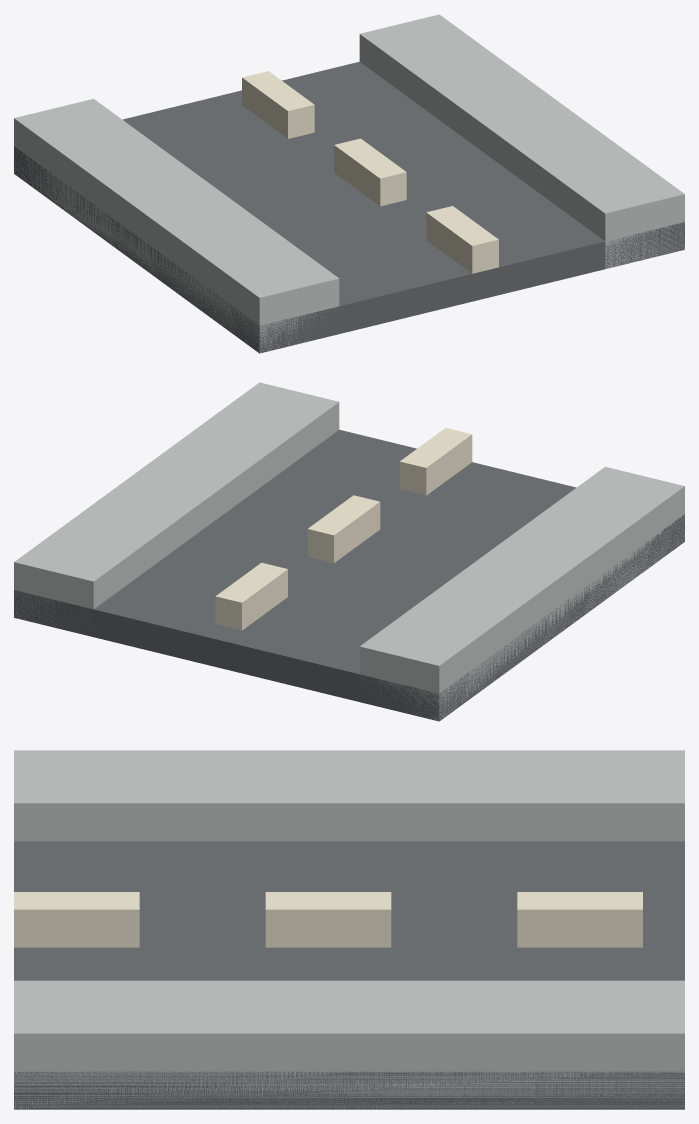
The model's file is pocket-borough-road-module__286.glb.
3 views of the same model, one above another, from view 1: azimuth 30°, elevation 25°; view 2: azimuth 150°, elevation 25°; view 3: azimuth 270°, elevation 25° (orthographic). The views are drawn at different scales.
Parts seen in each view (by area): view 1: pocket-borough-road-tile; view 2: pocket-borough-road-tile; view 3: pocket-borough-road-tile.
Part boxes in pixels (bbox=[...]): pocket-borough-road-tile: bbox=[14, 14, 684, 353]; pocket-borough-road-tile: bbox=[14, 382, 684, 721]; pocket-borough-road-tile: bbox=[14, 750, 684, 1109].
Bounding box in the file's own units: 2 × 0.25 × 2.
